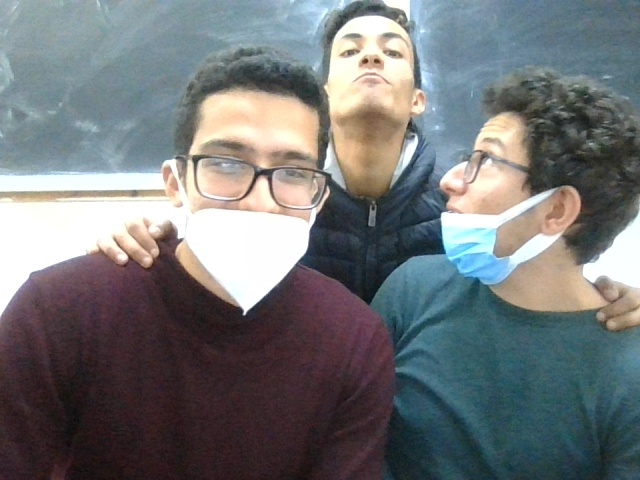mask_weared_incorrect: (440, 57, 634, 298), (164, 51, 326, 305)
without_mask: (313, 5, 435, 143)
